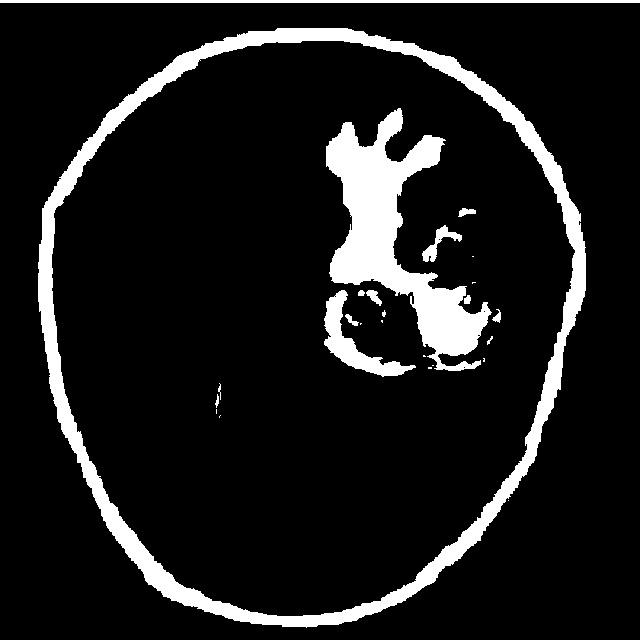Brain-Tumor: (302, 99, 515, 406)
